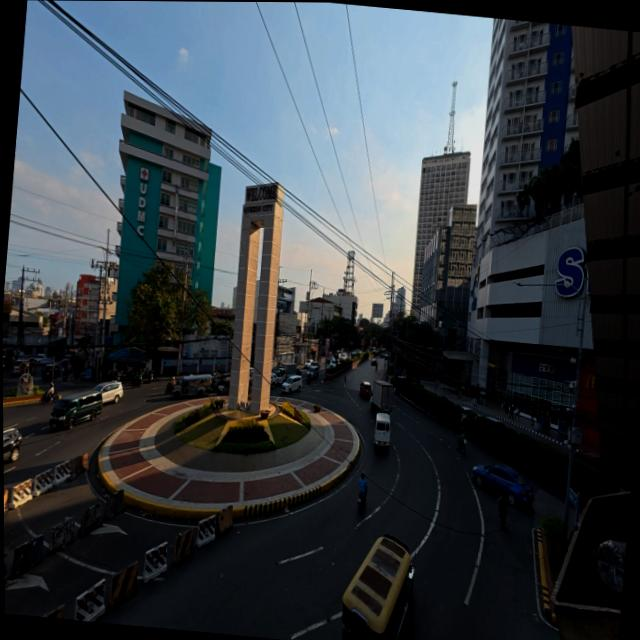Jeepneys: (342, 535, 413, 639), (173, 374, 211, 398)
car: (472, 464, 534, 506), (94, 381, 123, 404), (3, 428, 21, 461), (574, 451, 600, 467), (282, 375, 302, 393), (42, 363, 61, 380), (14, 360, 30, 375), (60, 354, 73, 372), (486, 416, 506, 427), (360, 382, 371, 398), (308, 364, 319, 380), (33, 354, 46, 363), (309, 361, 320, 369), (305, 360, 313, 368), (370, 356, 377, 365), (330, 359, 337, 368), (3, 361, 5, 370)
motorcycle: (40, 392, 60, 403), (358, 493, 366, 511), (131, 376, 142, 388), (143, 370, 153, 383), (165, 381, 173, 394), (62, 369, 68, 381), (306, 373, 312, 384)
trucks: (371, 381, 394, 413), (271, 363, 297, 386)
vans: (50, 391, 102, 429), (374, 413, 390, 449)
